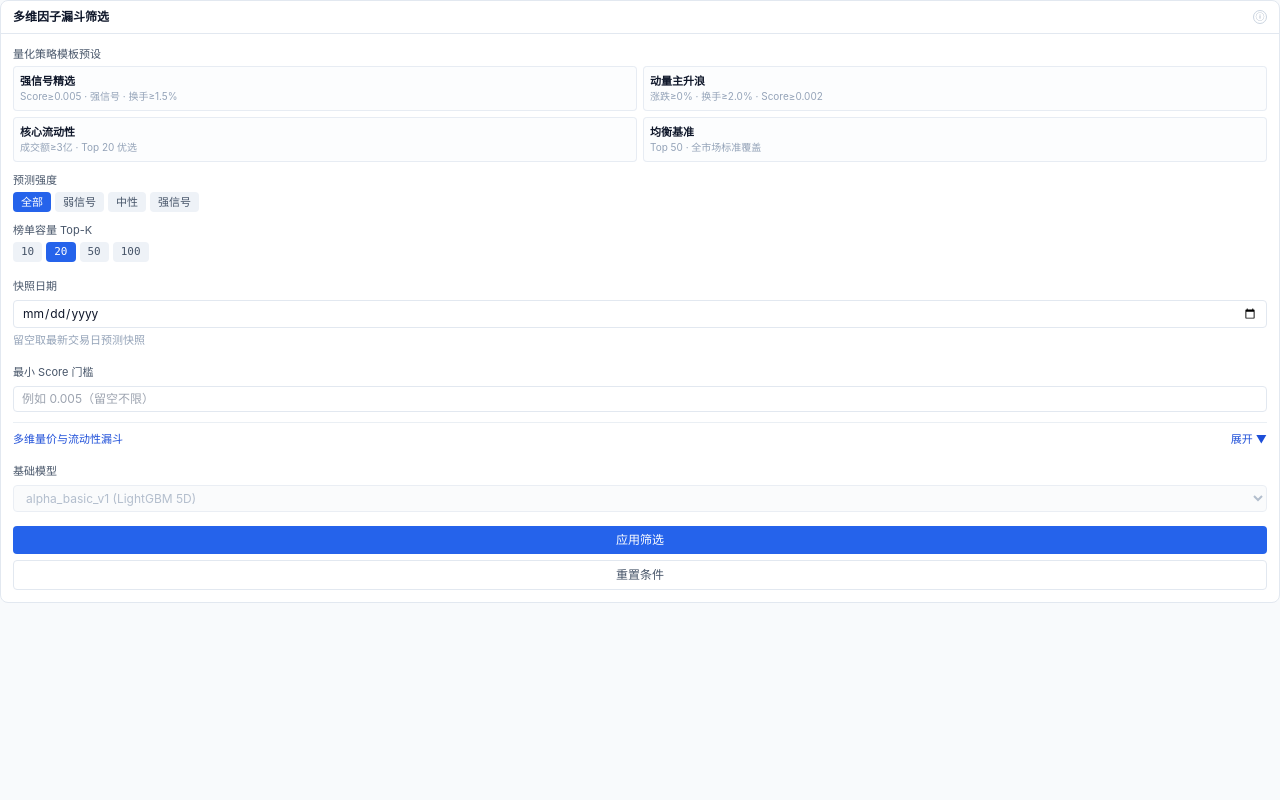
Test: FilterPanel 组件 › 支持展开多维量价与流动性漏斗并修改字段
What coordinates should you click on to do the following:
click the text "多维量价与流动性漏斗"
I would click on:
 (68, 439)
Its box is [13,431,123,447].
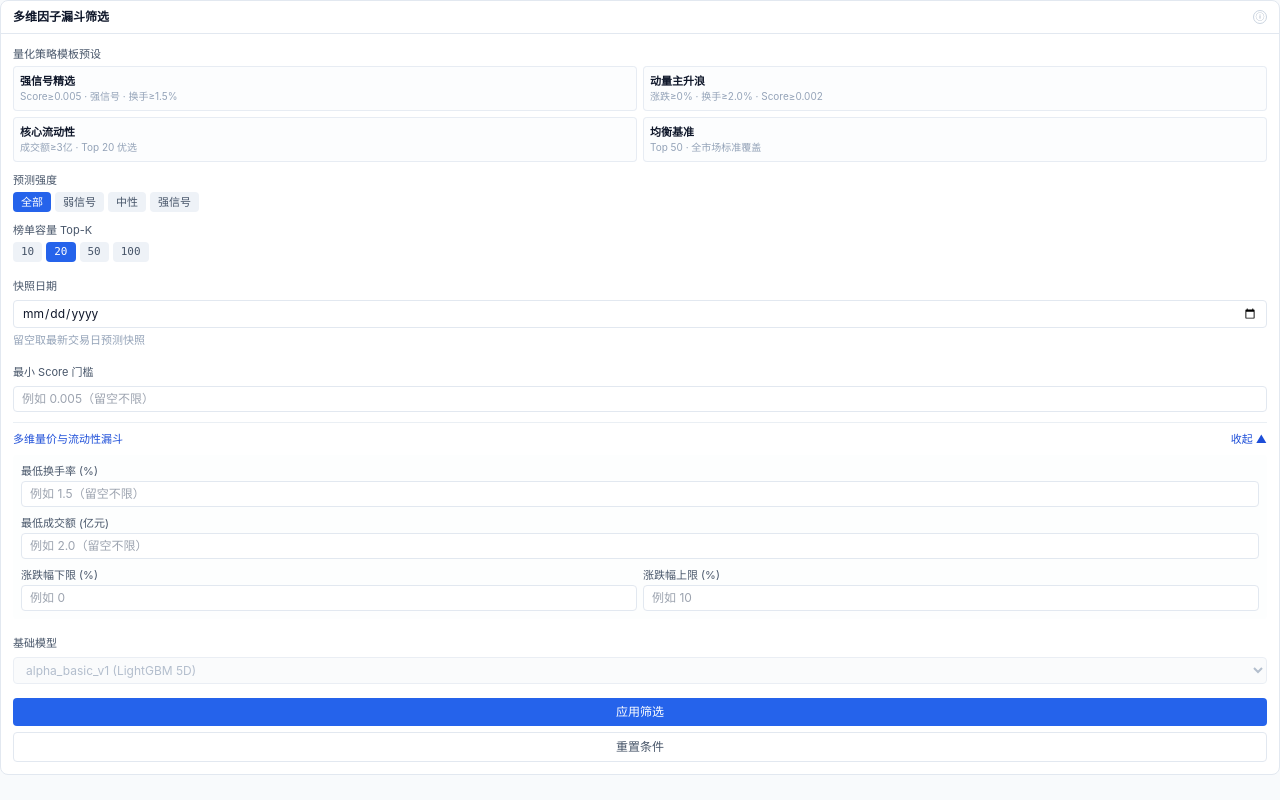
Now the text "最低换手率 (%)" is shown, box [21,464,98,478]
Now the text "最低成交额 (亿元)" is shown, box [21,516,109,530]
